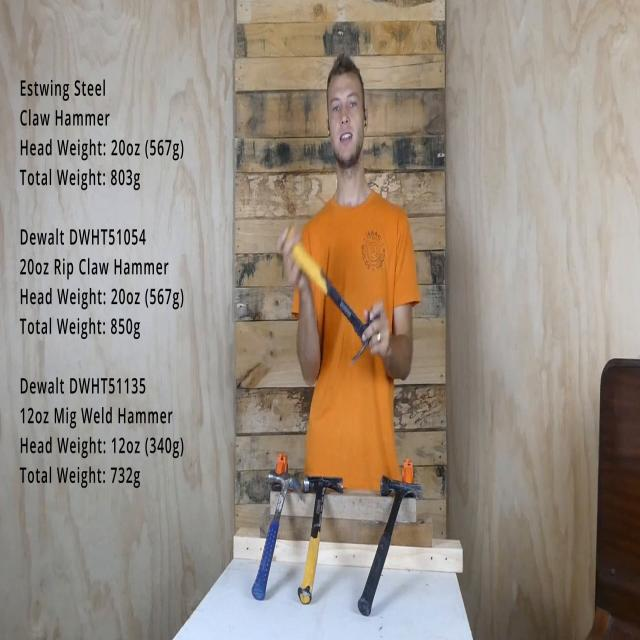hammer: (282, 227, 380, 364), (358, 475, 423, 616), (252, 470, 302, 601), (297, 475, 344, 604)
